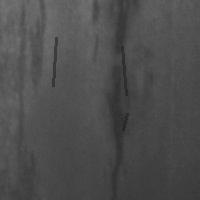inclusion: (106, 2, 142, 196), (11, 1, 48, 148), (87, 1, 106, 66), (120, 44, 128, 97), (51, 35, 58, 88), (121, 111, 129, 132)
